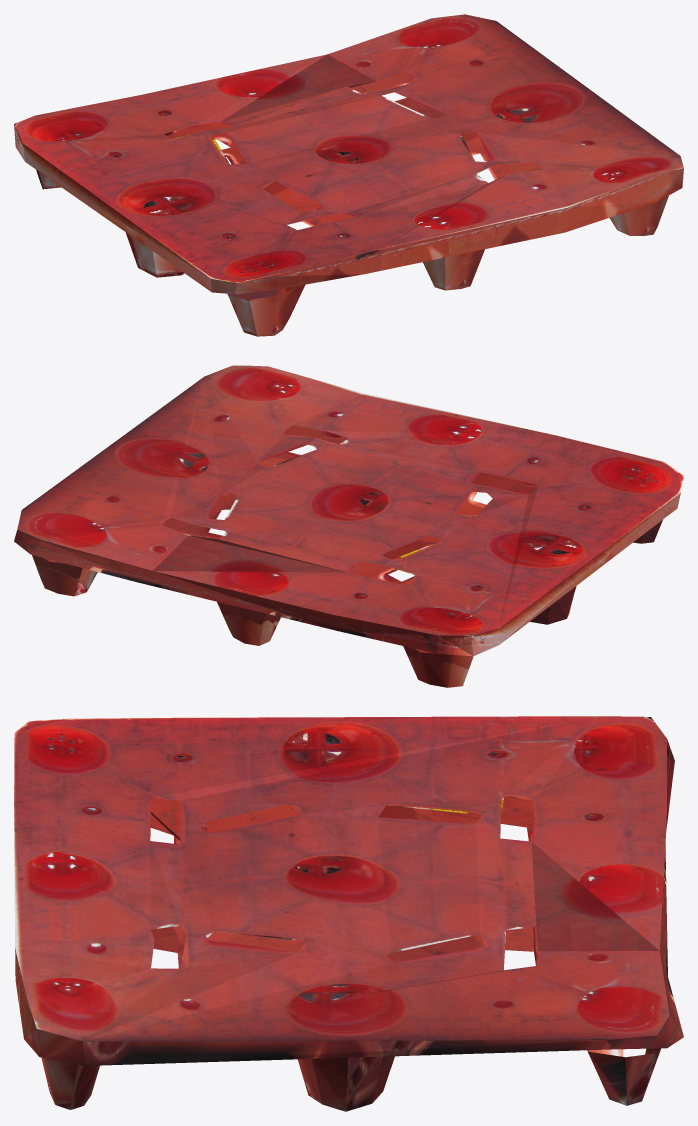
File: palette.fbx
3 views of the same model, one above another, from view 1: azimuth 30°, elevation 25°; view 2: azimuth 150°, elevation 25°; view 3: azimuth 270°, elevation 25° (orthographic). The views are drawn at different scales.
Visible parts, largest first — view 1: orange_palette:Default; view 2: orange_palette:Default; view 3: orange_palette:Default.
Boxes of the visible parts, x1,y1,x2,y2 form: orange_palette:Default: [14, 14, 683, 336]; orange_palette:Default: [14, 365, 683, 687]; orange_palette:Default: [14, 716, 683, 1111].
Bounding box in the file's own units: 1.01 × 0.1571 × 0.8615.
